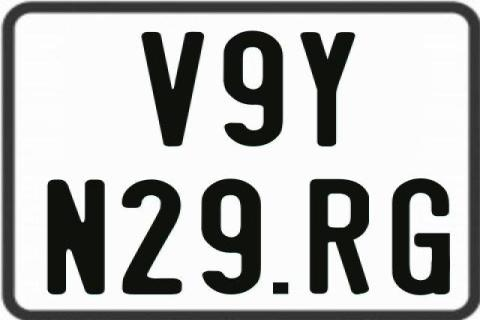0: (120, 177, 186, 293), (198, 179, 261, 299), (223, 30, 284, 150)
G: (392, 178, 452, 294)
N: (45, 179, 108, 296)
R: (307, 178, 368, 296)
V: (141, 31, 208, 149)
Y: (298, 32, 356, 147)
